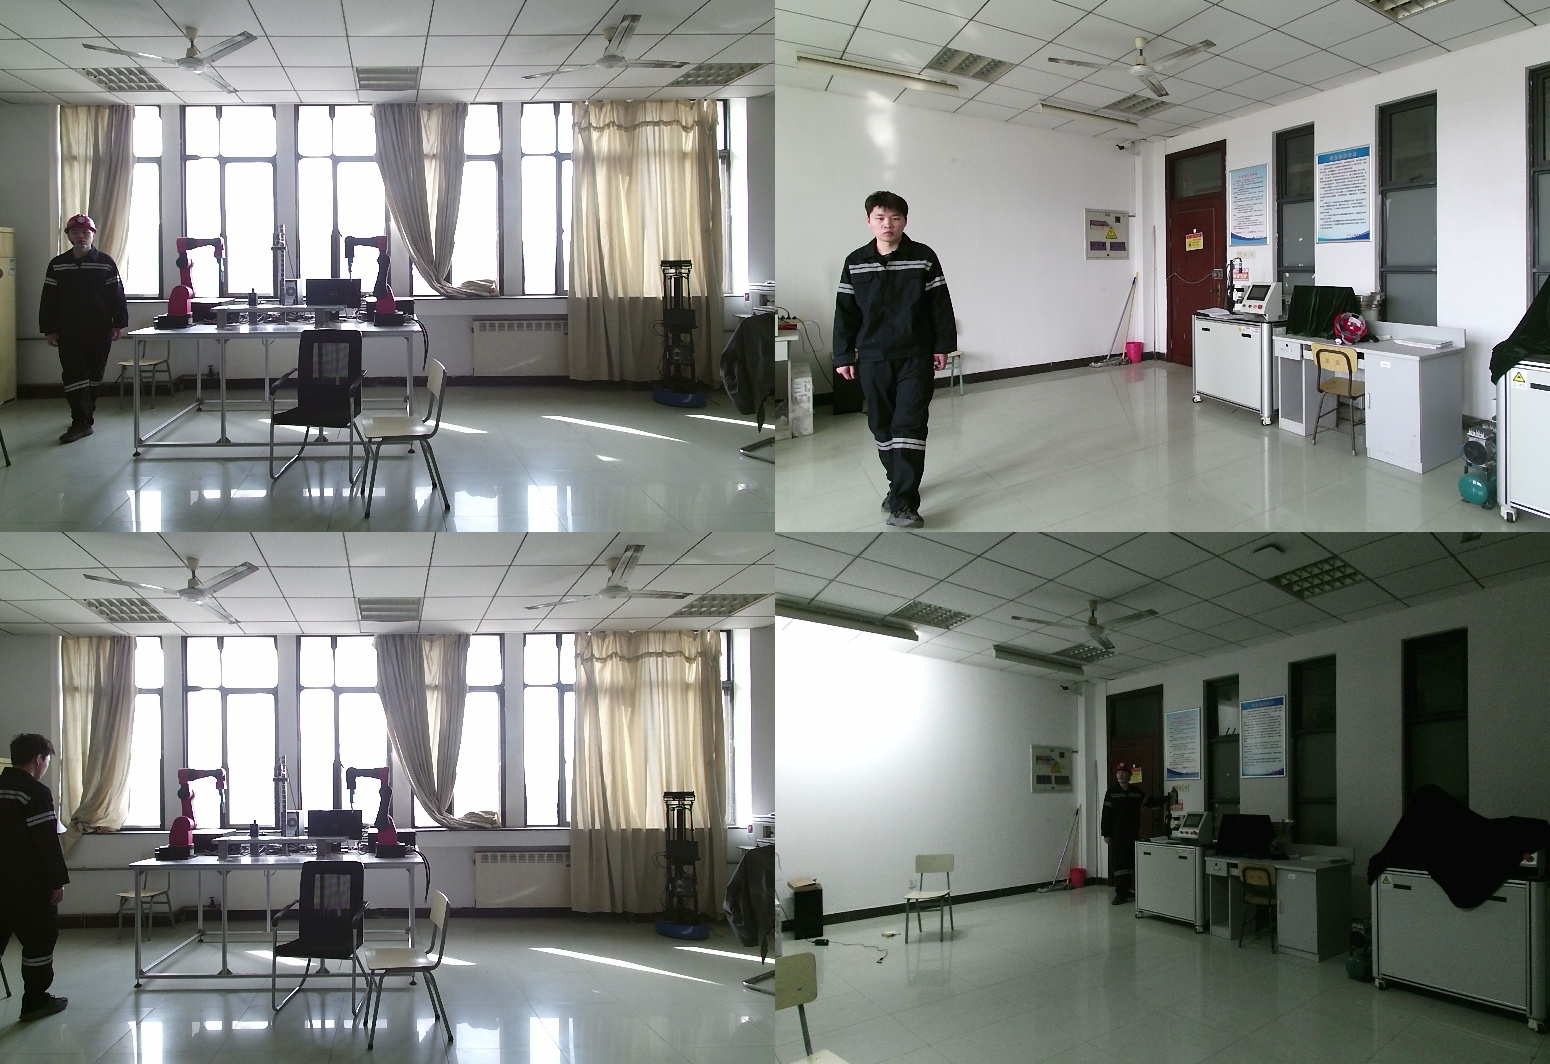person: (830, 188, 964, 532), (2, 734, 75, 1030), (37, 216, 129, 443), (1099, 759, 1151, 904)
